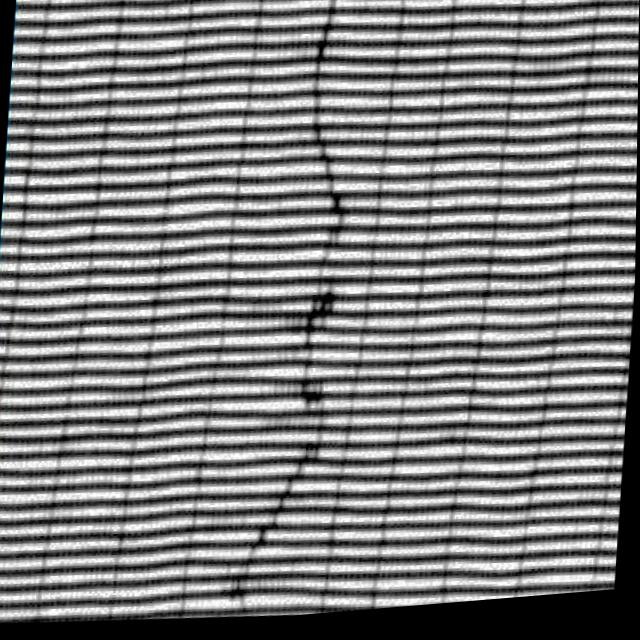Stitch: (213, 0, 364, 626)
